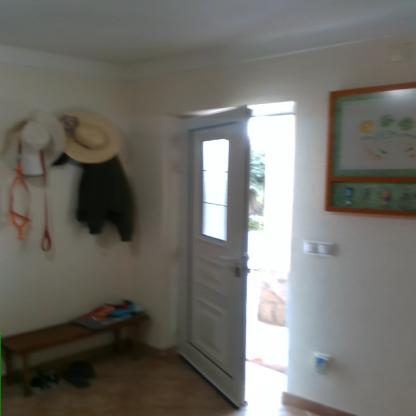semi: (163, 90, 300, 410)
